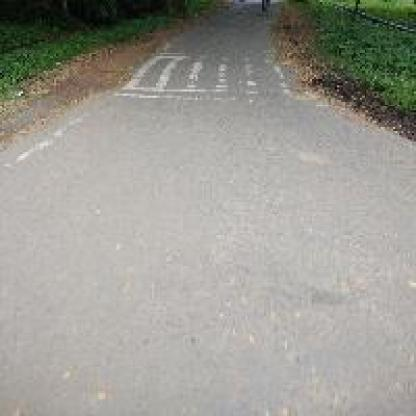Speed Bump: (110, 46, 331, 106)
